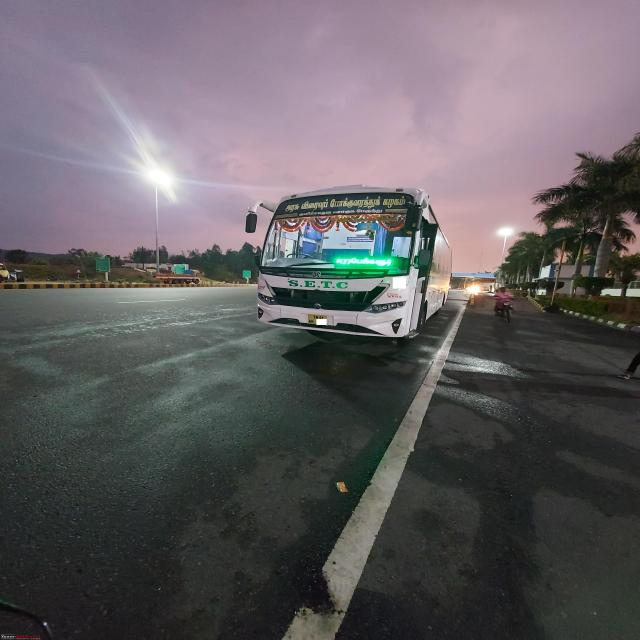bus: (244, 185, 452, 339)
